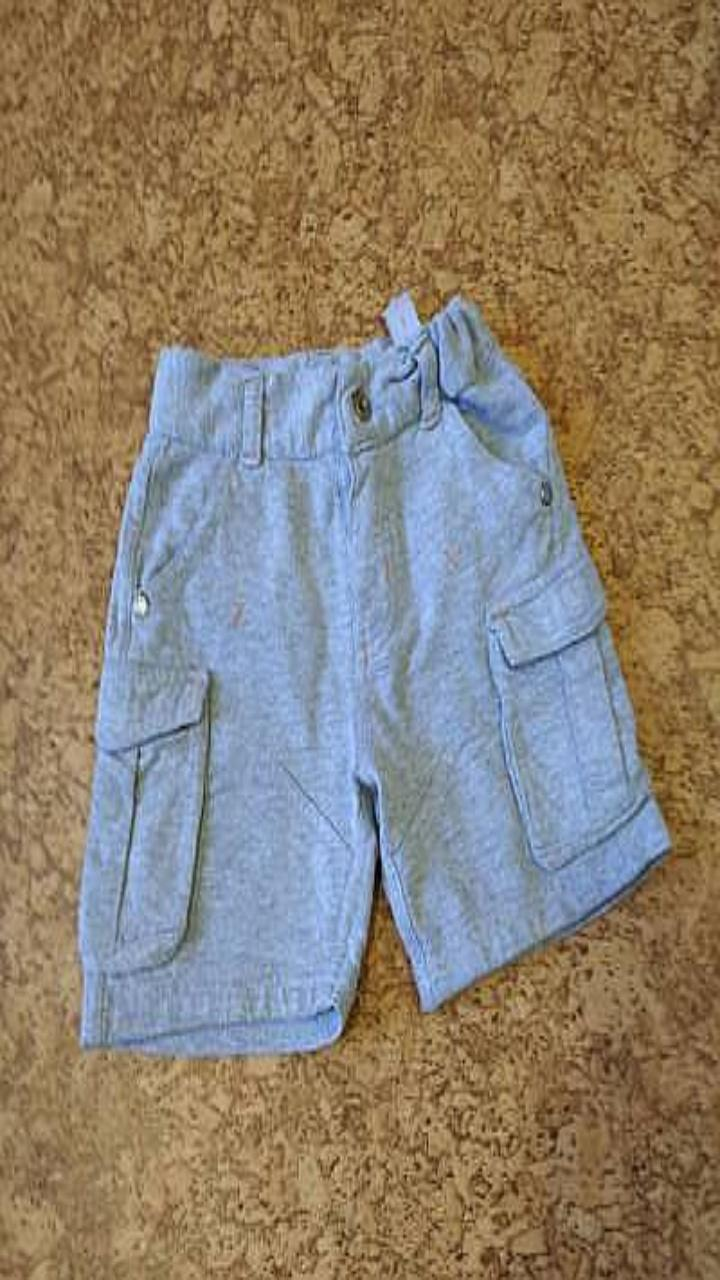Shorts: (78, 291, 669, 1055)
